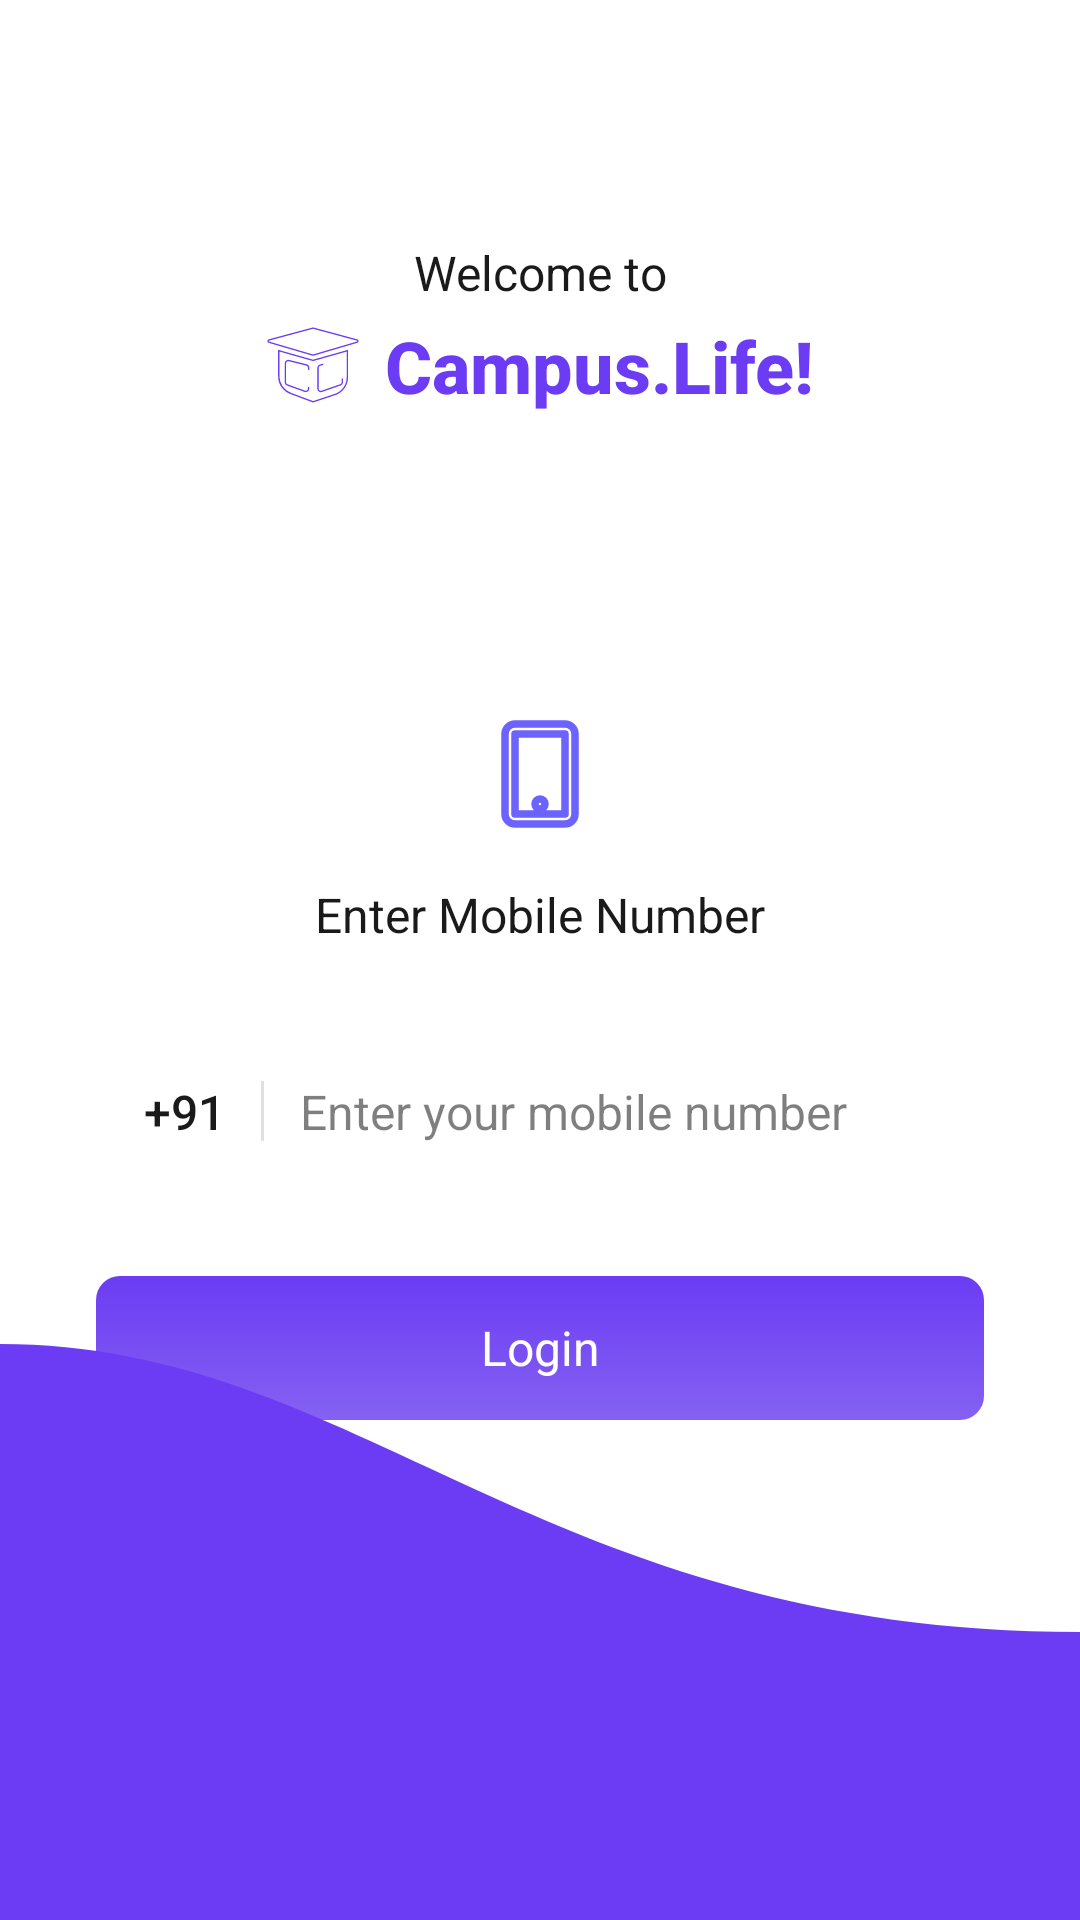

Icons on this 1080px x 1920px Android screen, each with its box as Rect(x1, y1, x2, y2):
phone: Rect(501, 720, 579, 828)
